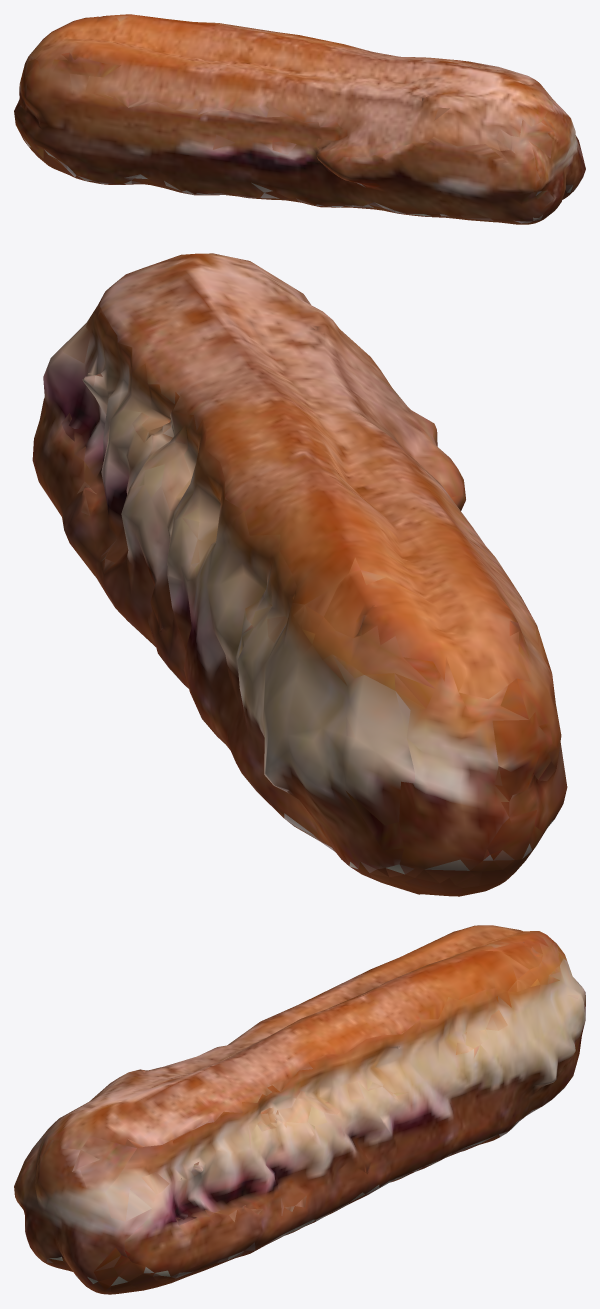
File: eclaire_3150.obj
3 renders of one model, top to bottom at view 1: azimuth 30°, elevation 25°; view 2: azimuth 150°, elevation 25°; view 3: azimuth 270°, elevation 25°, orthographic. The views are drawn at different scales.
Bounding box in the file's own units: 93.83 × 31.66 × 91.26.
1 material, 1 textured.
